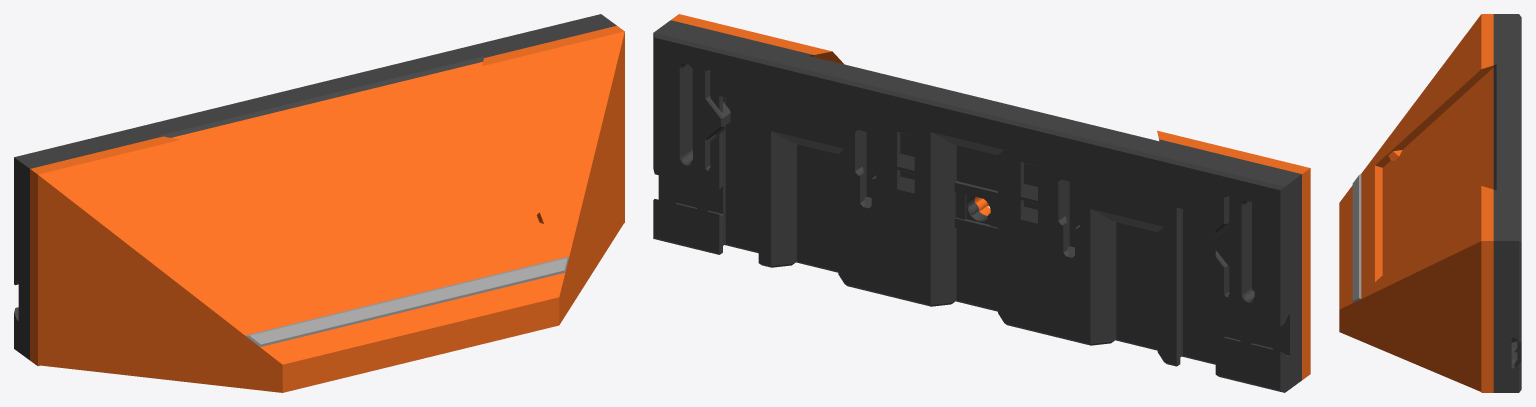
File: Faceplate_ClassicPro_1W-05H.lib.glb
3 renders of one model, left to right at view 1: azimuth 30°, elevation 25°; view 2: azimuth 150°, elevation 25°; view 3: azimuth 270°, elevation 25°, orthographic. The views are drawn at different scales.
Visible parts, largest first — view 1: Faceplate_ClassicPro_1W-05H; view 2: Faceplate_ClassicPro_1W-05H; view 3: Faceplate_ClassicPro_1W-05H.
Part boxes in pixels (x1,y1,x2,y2): Faceplate_ClassicPro_1W-05H: (14, 14, 624, 392); Faceplate_ClassicPro_1W-05H: (653, 14, 1310, 392); Faceplate_ClassicPro_1W-05H: (1339, 14, 1521, 392).
Size of the model in its own units: 87 by 27.15 by 29.5.
